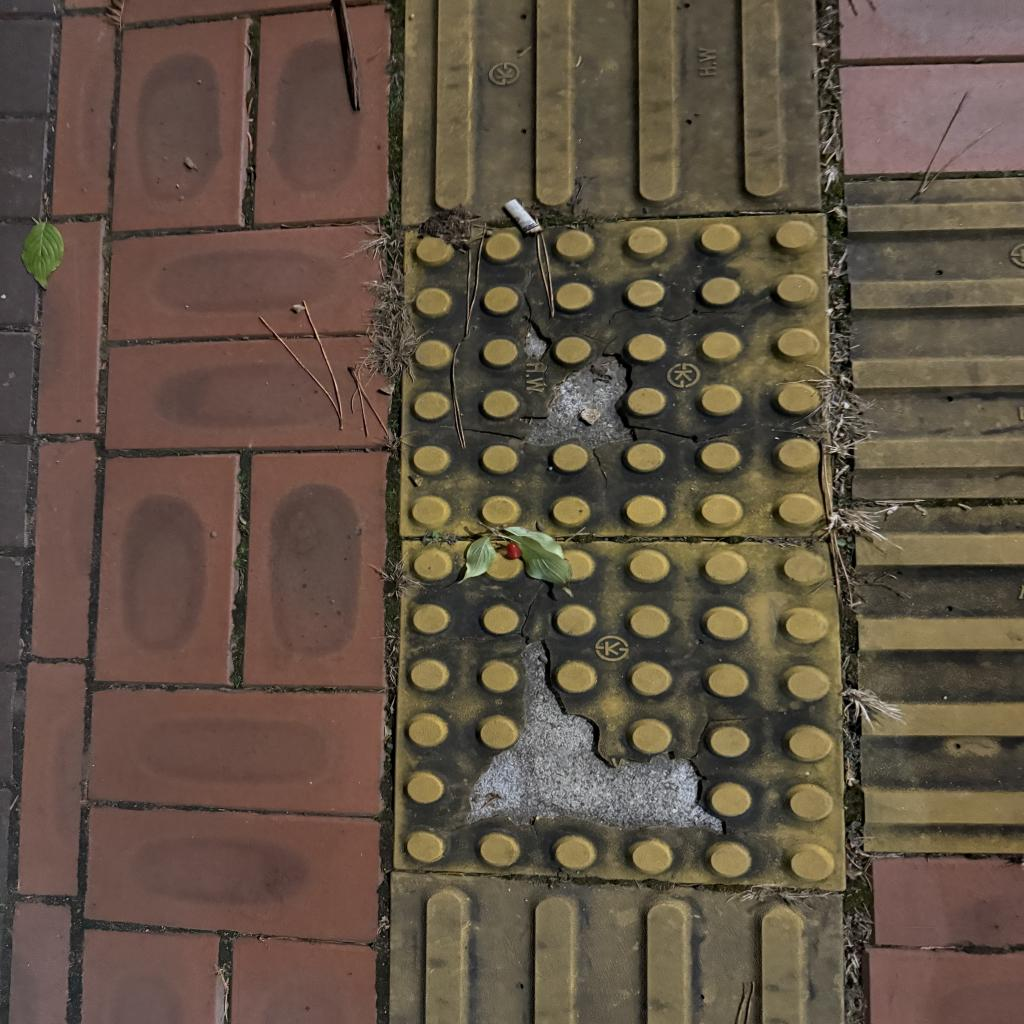Stop block broken: (404, 542, 842, 874), (408, 232, 828, 533)
